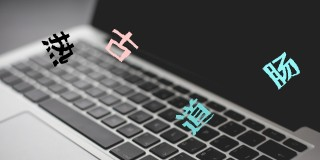古: (105, 26, 140, 64)
热: (42, 30, 75, 68)
肠: (260, 49, 300, 90)
道: (175, 96, 215, 136)
